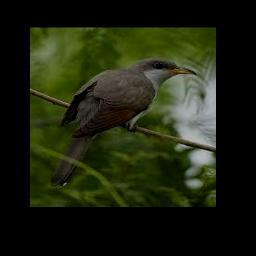Cuckoo: (50, 58, 196, 188)
